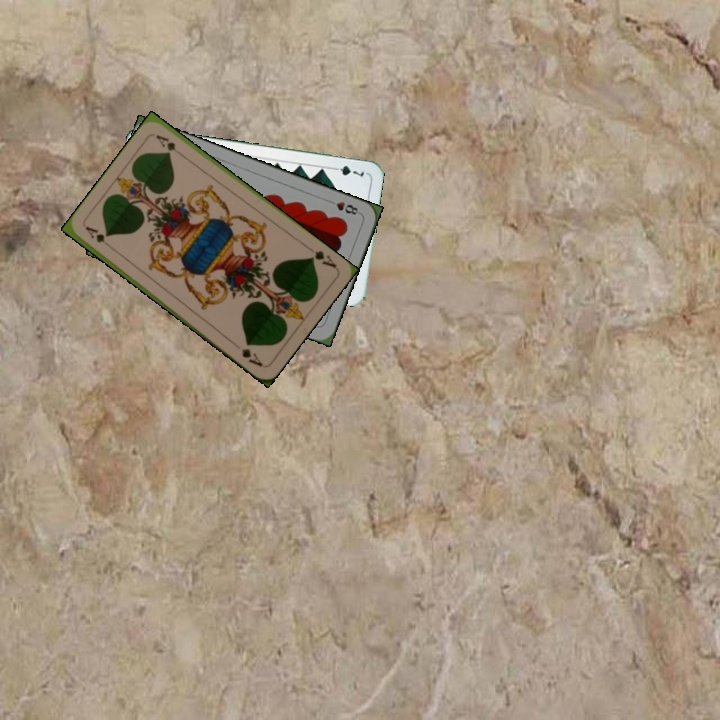G7: (327, 161, 367, 179)
GA: (81, 222, 116, 253), (303, 242, 339, 271)
H8: (324, 196, 363, 218)
